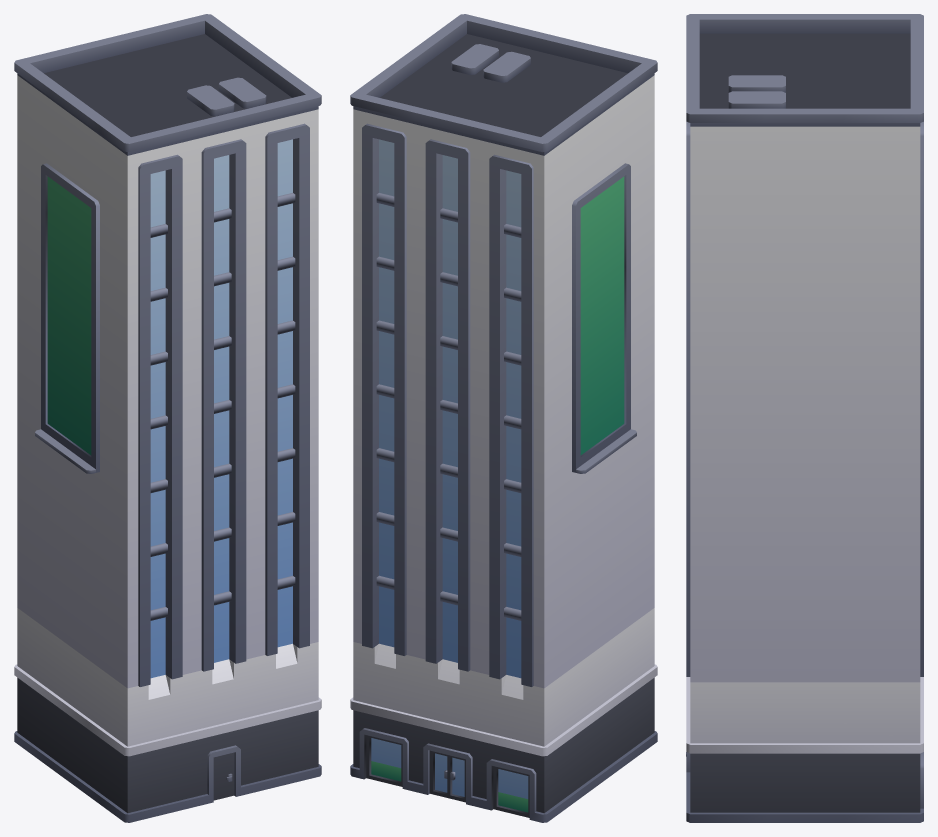
File: tower_4.fbx
The picture shows the model from 3 angles, left to right: view 1: azimuth 30°, elevation 25°; view 2: azimuth 150°, elevation 25°; view 3: azimuth 270°, elevation 25°; orthographic projection. The views are drawn at different scales.
Visible parts, largest first — view 1: tower_4; view 2: tower_4; view 3: tower_4.
Part boxes in pixels (bbox=[...]): tower_4: bbox=[14, 14, 321, 822]; tower_4: bbox=[350, 14, 657, 822]; tower_4: bbox=[686, 14, 923, 822].
Size of the model in its own units: 1.29 by 4.08 by 1.24.
1 material, 1 textured.
